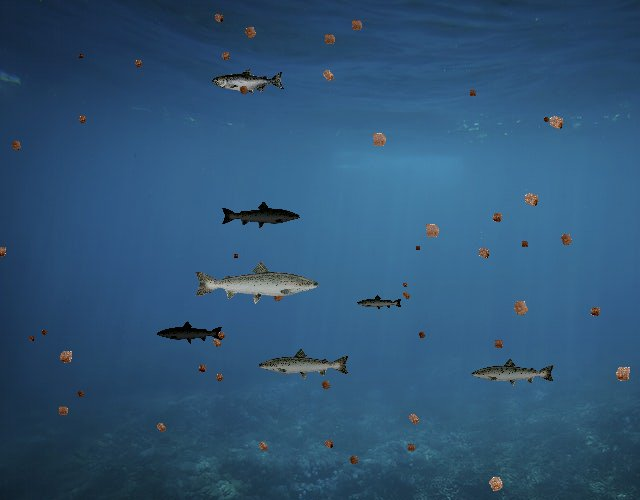Fish: (192, 259, 321, 305), (257, 348, 351, 382), (470, 357, 556, 388), (220, 201, 301, 230), (212, 69, 285, 95), (157, 320, 225, 345), (356, 294, 403, 311)
Pellet: (608, 358, 638, 388), (316, 64, 340, 88), (238, 20, 262, 44), (6, 135, 27, 156), (216, 47, 235, 66), (209, 9, 228, 28), (74, 111, 90, 127), (540, 114, 553, 127), (25, 333, 37, 345)
